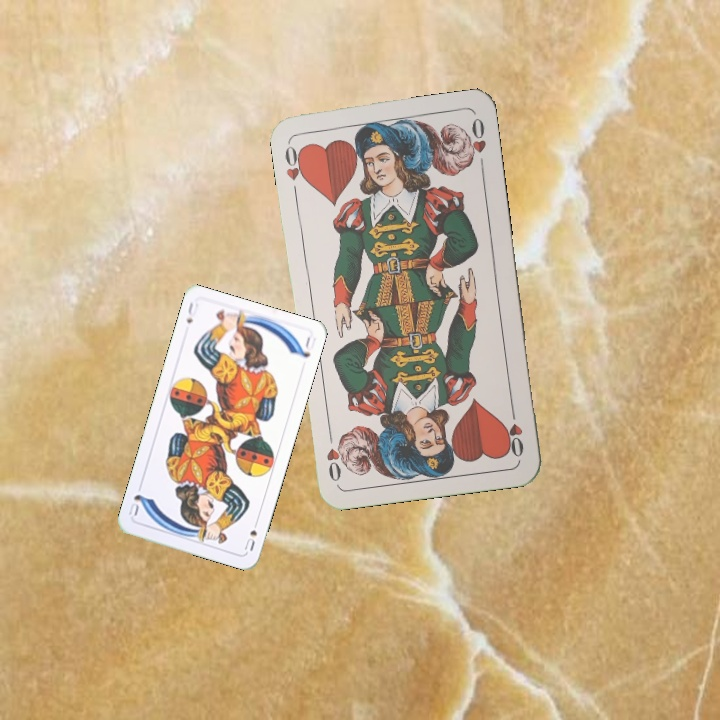HO: (502, 401, 527, 460), (280, 138, 310, 185)
SU: (240, 515, 261, 553), (182, 298, 201, 326)
